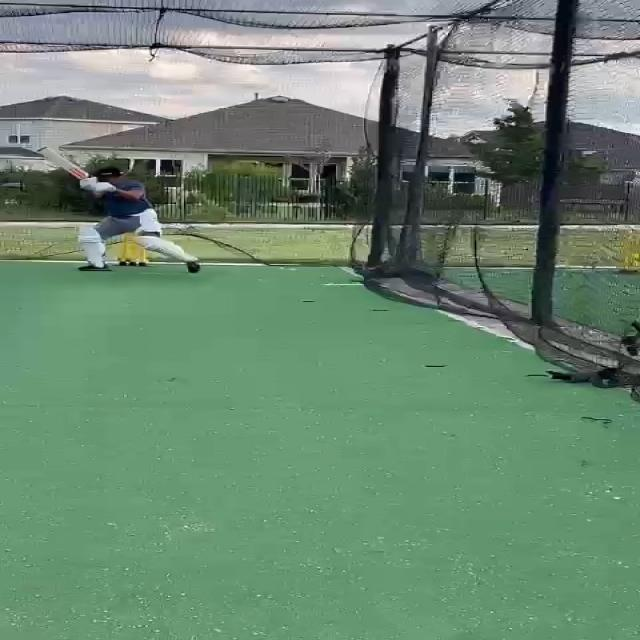batsman: (32, 145, 203, 274)
